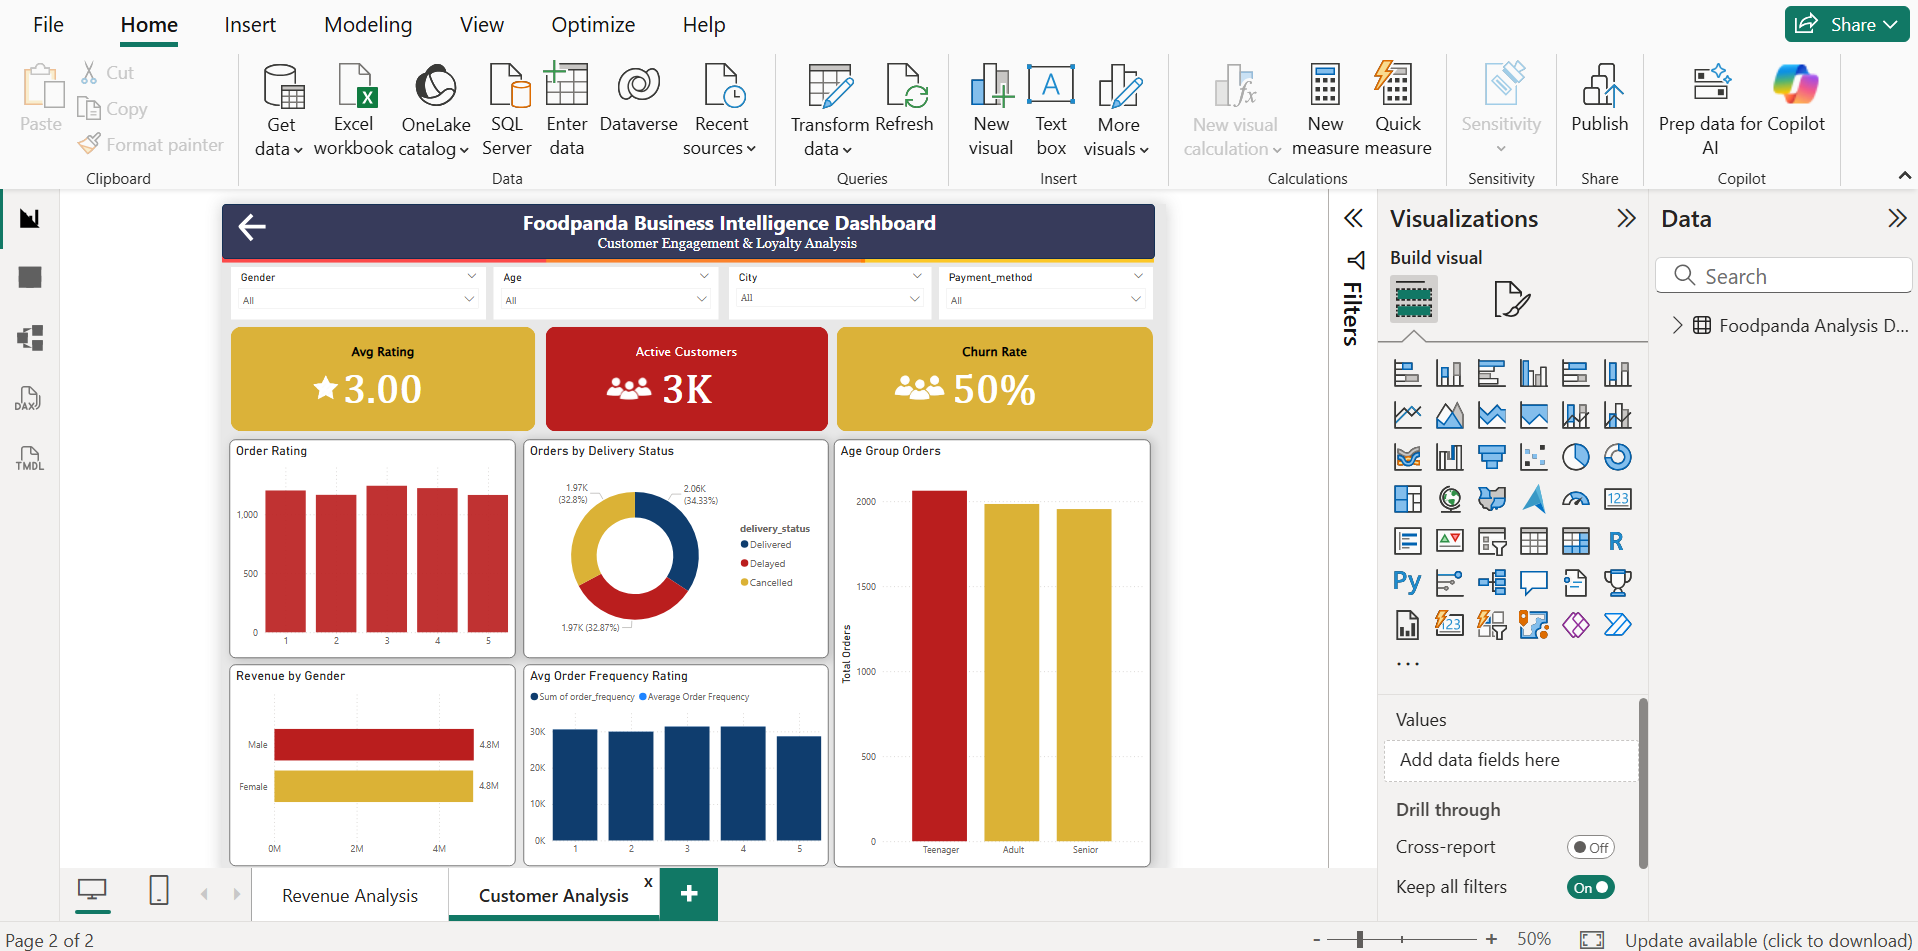

Layout of this report page (visuals, bound fields, positions):
{"tool":"powerbi","page":{"name":"Customer Analysis","canvas":[1259,897],"ordinal":1},"visuals":[{"type":"shape","box":[851.7,69,391,10.3],"z":0},{"type":"shape","box":[431,69,425.9,10.3],"z":1000},{"type":"shape","box":[0,69,432.8,10.3],"z":2000},{"type":"shape","box":[0,0,1244,73.3],"z":3000},{"type":"textbox","box":[396.7,0,580,61.7],"z":4000},{"type":"textbox","box":[495,36.7,366.7,38.3],"z":5000},{"type":"cardVisual","fields":{"Data":["Foodpanda Analysis Dataset.Avg Rating"]},"box":[5,157.5,417.5,150],"z":6000},{"type":"cardVisual","fields":{"Data":["Foodpanda Analysis Dataset.Churn Rate"]},"box":[813.8,157.5,432.8,150],"z":7000},{"type":"cardVisual","fields":{"Data":["Foodpanda Analysis Dataset.Active Customers"]},"box":[425.9,157.5,387.9,150],"z":8000},{"type":"image","box":[101.2,213.3,72.5,60],"z":9000},{"type":"columnChart","title":"Order Rating","fields":{"Category":["Foodpanda Analysis Dataset.rating"],"Y":["CountNonNull(Foodpanda Analysis Dataset.order_id)"]},"box":[9.9,313.3,381,291.4],"z":10000},{"type":"donutChart","title":"Orders by Delivery Status","fields":{"Category":["Foodpanda Analysis Dataset.delivery_status"],"Y":["CountNonNull(Foodpanda Analysis Dataset.order_id)"]},"box":[403,313.3,406.9,291.4],"z":11000},{"type":"columnChart","title":"Age Group Orders","fields":{"Category":["Foodpanda Analysis Dataset.age"],"Y":["Foodpanda Analysis Dataset.Total Orders"]},"box":[816.3,313.7,422,570],"z":12000},{"type":"image","box":[490,197.5,105,102.5],"z":13000},{"type":"image","box":[870,192.5,120,112.5],"z":14000},{"type":"barChart","title":"Revenue by Gender","fields":{"Y":["Sum(Foodpanda Analysis Dataset.Revenue)"],"Category":["Foodpanda Analysis Dataset.gender"]},"box":[9.9,613.3,381,269],"z":15000},{"type":"columnChart","title":"Avg Order Frequency Rating","fields":{"Category":["Foodpanda Analysis Dataset.rating"],"Y":["Sum(Foodpanda Analysis Dataset.order_frequency)","Foodpanda Analysis Dataset.Average Order Frequency"]},"box":[403,613.3,406.9,269],"z":16000},{"type":"actionButton","box":[17.2,8.6,51.7,46.6],"z":17000},{"type":"slicer","fields":{"Values":["Foodpanda Analysis Dataset.City"]},"box":[675,84.4,270,70],"z":18000},{"type":"slicer","fields":{"Values":["Foodpanda Analysis Dataset.payment_method"]},"box":[955,84.4,285,70],"z":19000},{"type":"slicer","fields":{"Values":["Foodpanda Analysis Dataset.gender"]},"box":[12.5,84.4,340,70],"z":20000},{"type":"slicer","fields":{"Values":["Foodpanda Analysis Dataset.Age"]},"box":[362.5,84.4,300,70],"z":21000}]}

Visuals, with their boxes on the page's 1259x897 design canvas (x1, y1, x2, y2). These are canvas units, not pixel positions in the 1918x951 screenshot, which may show the page scaled, cropped or inside an application window:
shape: [x1=852, y1=69, x2=1243, y2=79]
shape: [x1=431, y1=69, x2=857, y2=79]
shape: [x1=0, y1=69, x2=433, y2=79]
shape: [x1=0, y1=0, x2=1244, y2=73]
textbox: [x1=397, y1=0, x2=977, y2=62]
textbox: [x1=495, y1=37, x2=862, y2=75]
cardVisual - Foodpanda Analysis Dataset.Avg Rating: [x1=5, y1=158, x2=422, y2=308]
cardVisual - Foodpanda Analysis Dataset.Churn Rate: [x1=814, y1=158, x2=1247, y2=308]
cardVisual - Foodpanda Analysis Dataset.Active Customers: [x1=426, y1=158, x2=814, y2=308]
image: [x1=101, y1=213, x2=174, y2=273]
"Order Rating" columnChart: [x1=10, y1=313, x2=391, y2=605]
"Orders by Delivery Status" donutChart: [x1=403, y1=313, x2=810, y2=605]
"Age Group Orders" columnChart: [x1=816, y1=314, x2=1238, y2=884]
image: [x1=490, y1=198, x2=595, y2=300]
image: [x1=870, y1=192, x2=990, y2=305]
"Revenue by Gender" barChart: [x1=10, y1=613, x2=391, y2=882]
"Avg Order Frequency Rating" columnChart: [x1=403, y1=613, x2=810, y2=882]
actionButton: [x1=17, y1=9, x2=69, y2=55]
slicer - Foodpanda Analysis Dataset.City: [x1=675, y1=84, x2=945, y2=154]
slicer - Foodpanda Analysis Dataset.payment_method: [x1=955, y1=84, x2=1240, y2=154]
slicer - Foodpanda Analysis Dataset.gender: [x1=12, y1=84, x2=352, y2=154]
slicer - Foodpanda Analysis Dataset.Age: [x1=362, y1=84, x2=662, y2=154]
